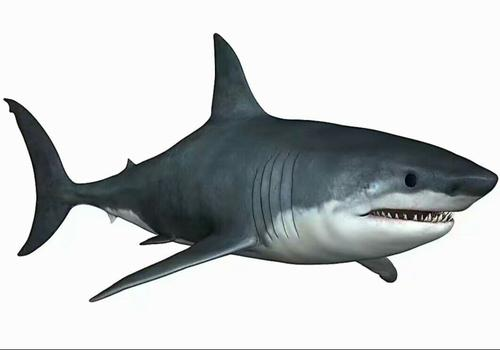fish: (1, 33, 500, 308)
